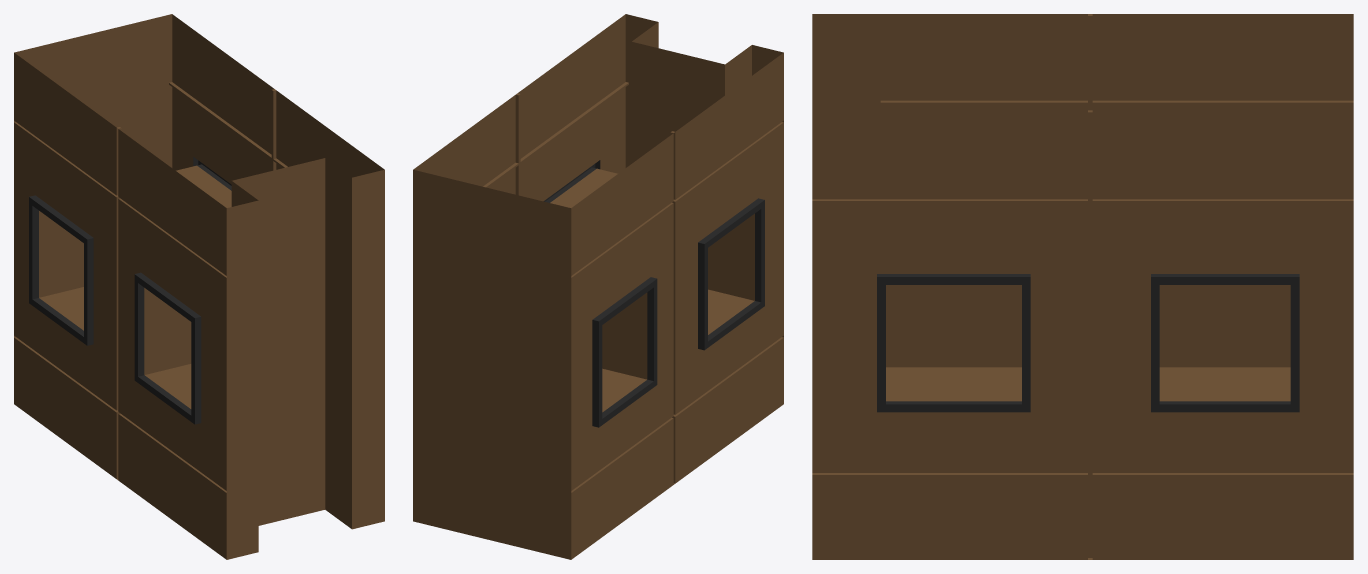
File: design wall2.fbx
3 renders of one model, left to right at view 1: azimuth 30°, elevation 25°; view 2: azimuth 150°, elevation 25°; view 3: azimuth 270°, elevation 25°, orthographic. The views are drawn at different scales.
Visible parts, largest first — view 1: Cube, Cube_1; view 2: Cube, Cube_1; view 3: Cube, Cube_1.
Boxes of the visible parts, x1,y1,x2,y2 form: Cube: (14, 14, 384, 559); Cube_1: (29, 157, 231, 424); Cube: (413, 14, 783, 559); Cube_1: (543, 160, 764, 427); Cube: (812, 14, 1353, 559); Cube_1: (877, 274, 1299, 412).
Bounding box in the file's own units: 649 × 1287 × 1411.
